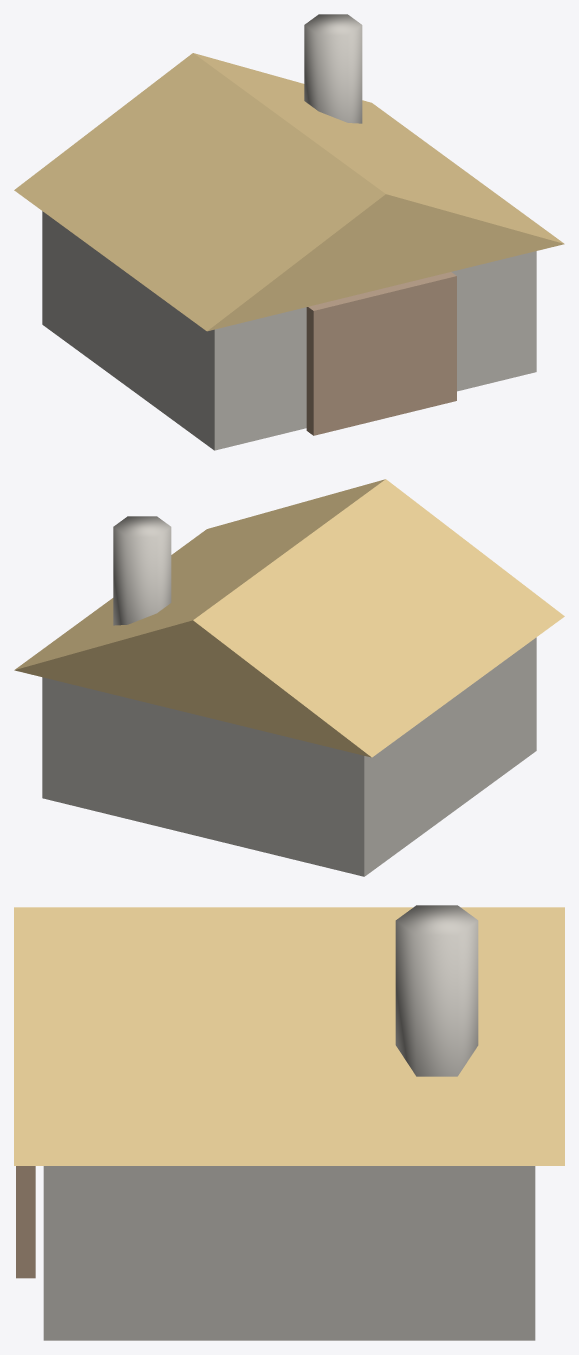
The model's file is smithy.glb.
3 views of the same model, one above another, from view 1: azimuth 30°, elevation 25°; view 2: azimuth 150°, elevation 25°; view 3: azimuth 270°, elevation 25° (orthographic). The views are drawn at different scales.
Visible parts, largest first — view 1: smithy_roof, smithy_stone, smithy_dark; view 2: smithy_roof, smithy_stone; view 3: smithy_roof, smithy_stone, smithy_dark.
Boxes of the visible parts, x1,y1,x2,y2 form: smithy_roof: (14,53,564,331); smithy_stone: (42,14,536,450); smithy_dark: (306,272,456,435); smithy_roof: (14,479,564,757); smithy_stone: (42,516,536,876); smithy_roof: (14,907,564,1165); smithy_stone: (43,905,535,1340); smithy_dark: (16,1166,35,1278).
Size of the model in its own units: 2 by 1.4 by 1.87.
